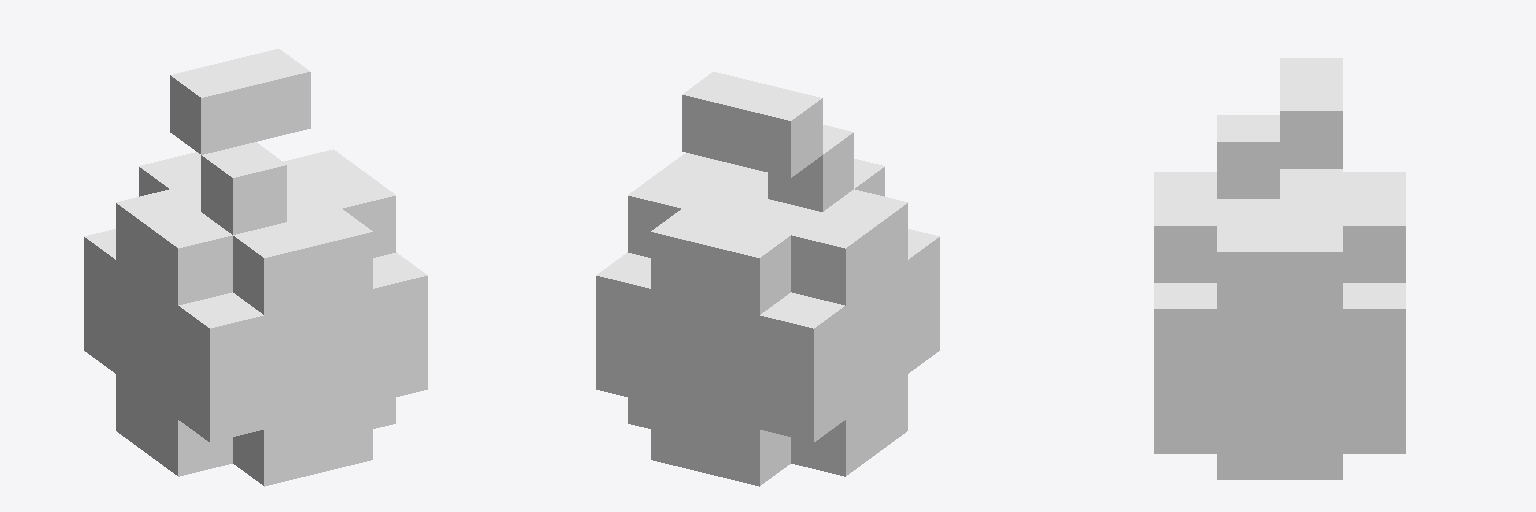
Rendered from BoomTowerBomb.obj.
3 renders of one model, left to right at view 1: azimuth 30°, elevation 25°; view 2: azimuth 150°, elevation 25°; view 3: azimuth 270°, elevation 25°, orthographic.
Parts seen in each view (by area): view 1: object 1; view 2: object 1; view 3: object 1.
Part boxes in pixels (x1,y1,x2,y2): object 1: (84, 49, 427, 486); object 1: (596, 72, 939, 486); object 1: (1154, 58, 1405, 479).
Size of the model in its own units: 0.4 by 0.6 by 0.4.